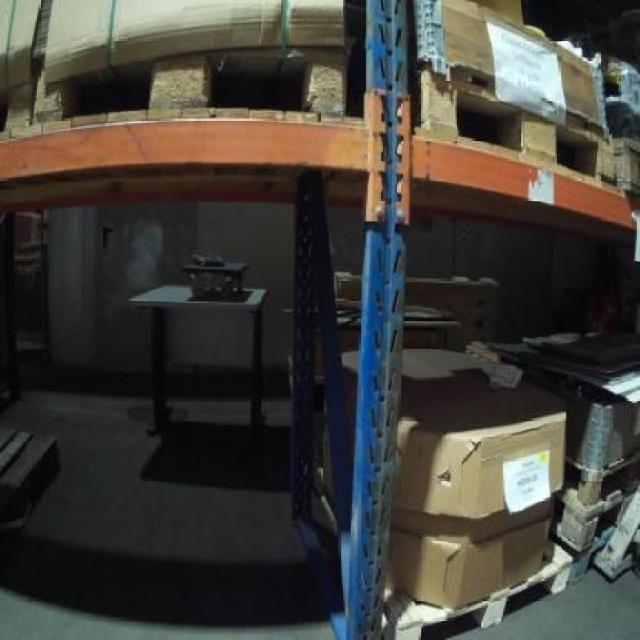ground: (0, 357, 339, 638), (436, 563, 638, 638)
pallet: (0, 38, 355, 140), (415, 52, 628, 201), (376, 529, 579, 638), (0, 416, 68, 533)
